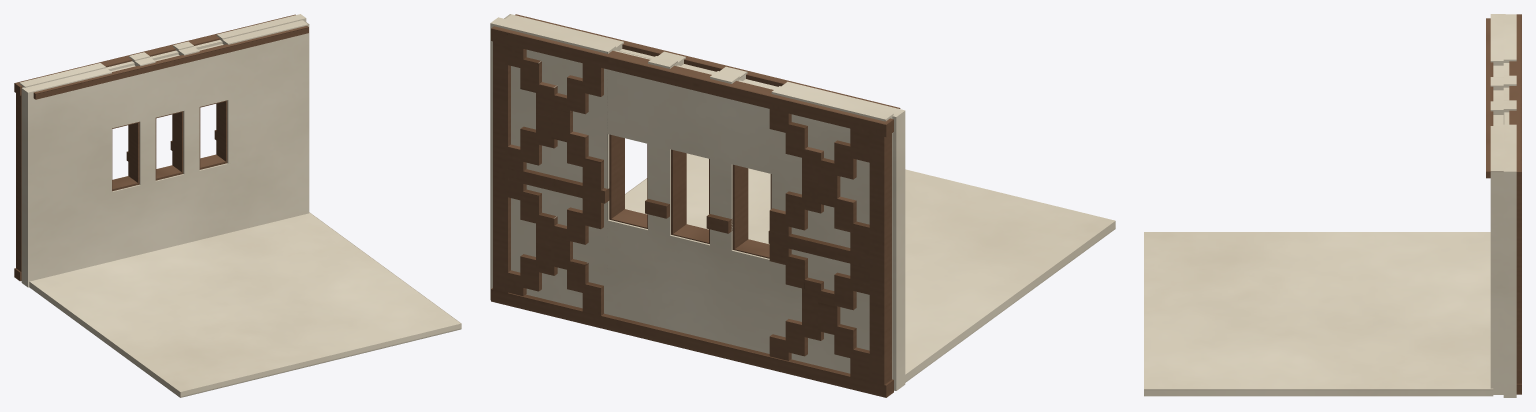
Rendered from med_window_c.glb.
3 renders of one model, left to right at view 1: azimuth 30°, elevation 25°; view 2: azimuth 150°, elevation 25°; view 3: azimuth 270°, elevation 25°, orthographic. The views are drawn at different scales.
Parts seen in each view (by area): view 1: med_window_c; view 2: med_window_c; view 3: med_window_c.
Part boxes in pixels (left/top/right/bottom): med_window_c: left=14, top=14, right=461, bottom=397; med_window_c: left=490, top=14, right=1115, bottom=397; med_window_c: left=1144, top=14, right=1521, bottom=397.
Bounding box in the file's own units: 4.04 × 2.68 × 4.06.
1 material, 1 textured.
